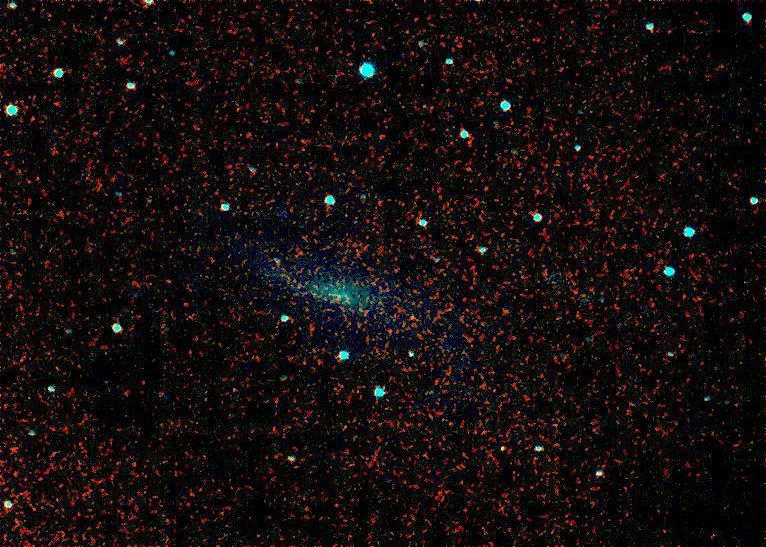star: (397, 307, 427, 337)
